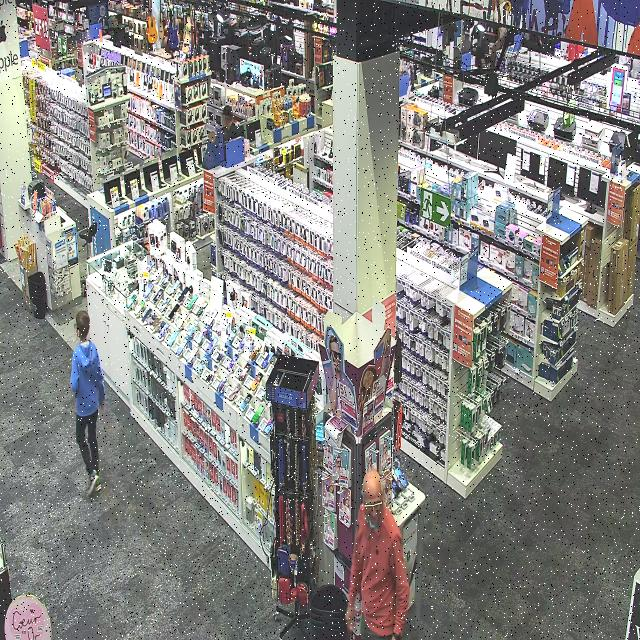hands: (345, 605, 354, 632), (100, 401, 104, 410)
person: (345, 471, 409, 640), (70, 341, 104, 416)
